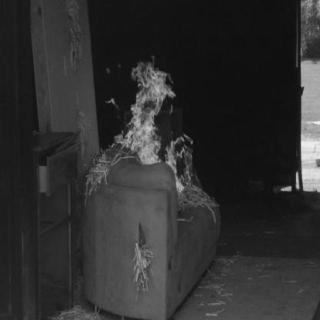Fire: (107, 50, 201, 192)
